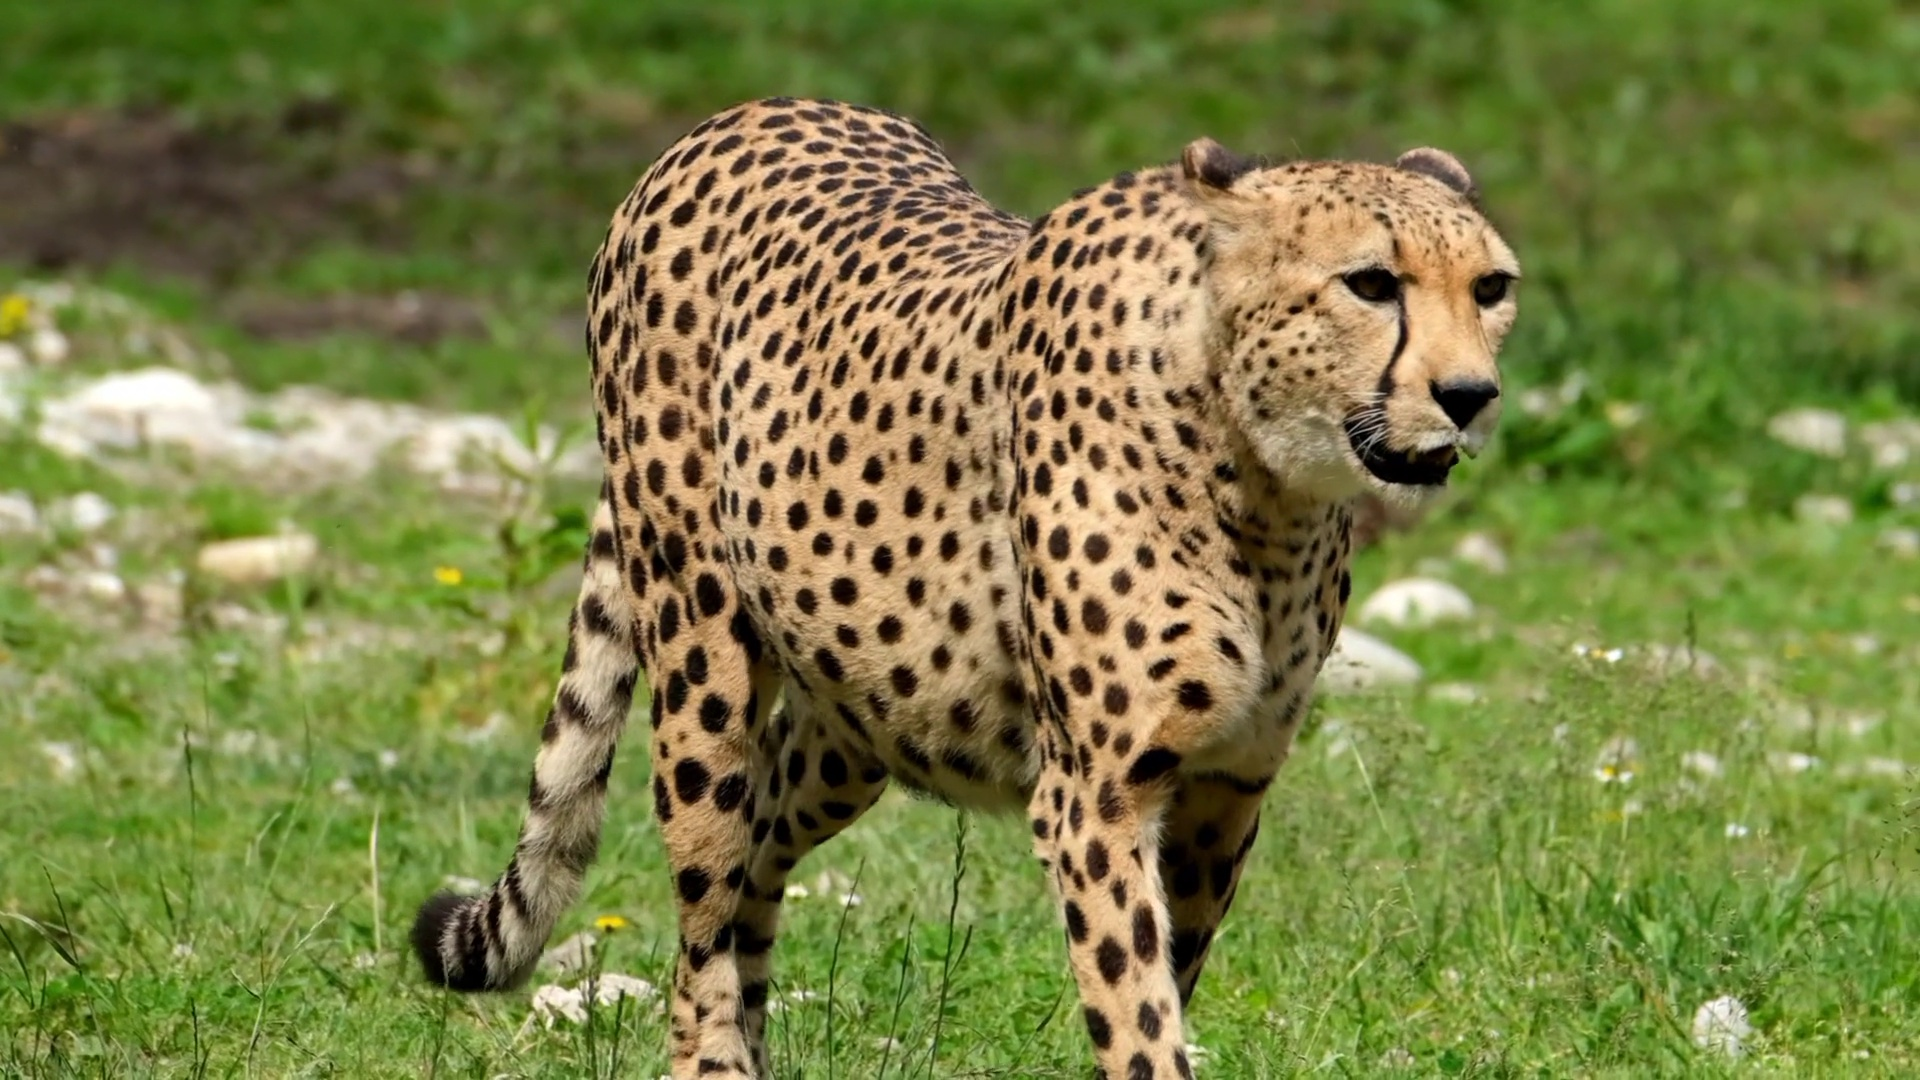Cheetah: (400, 87, 1528, 1080)
